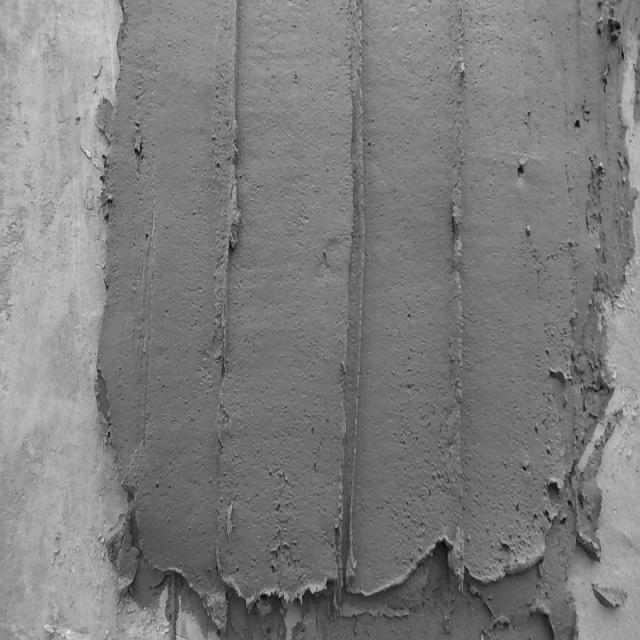trowels marks: (207, 0, 251, 583), (330, 2, 372, 596), (440, 3, 478, 596)
